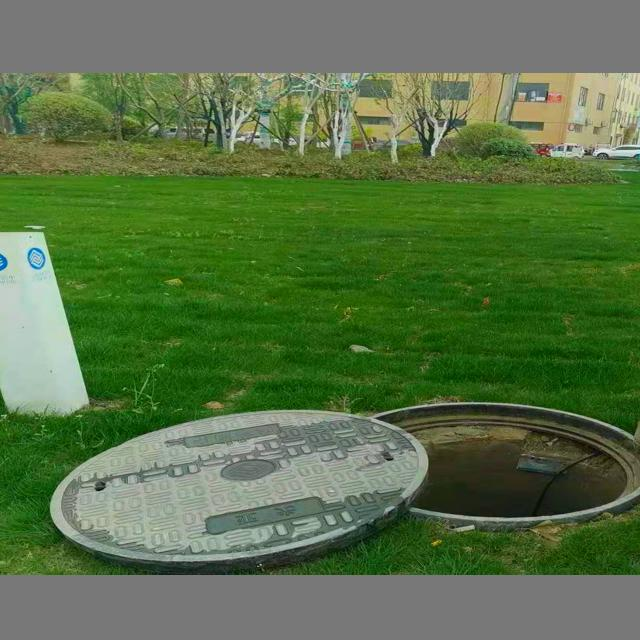uncovered: (52, 389, 640, 560)
